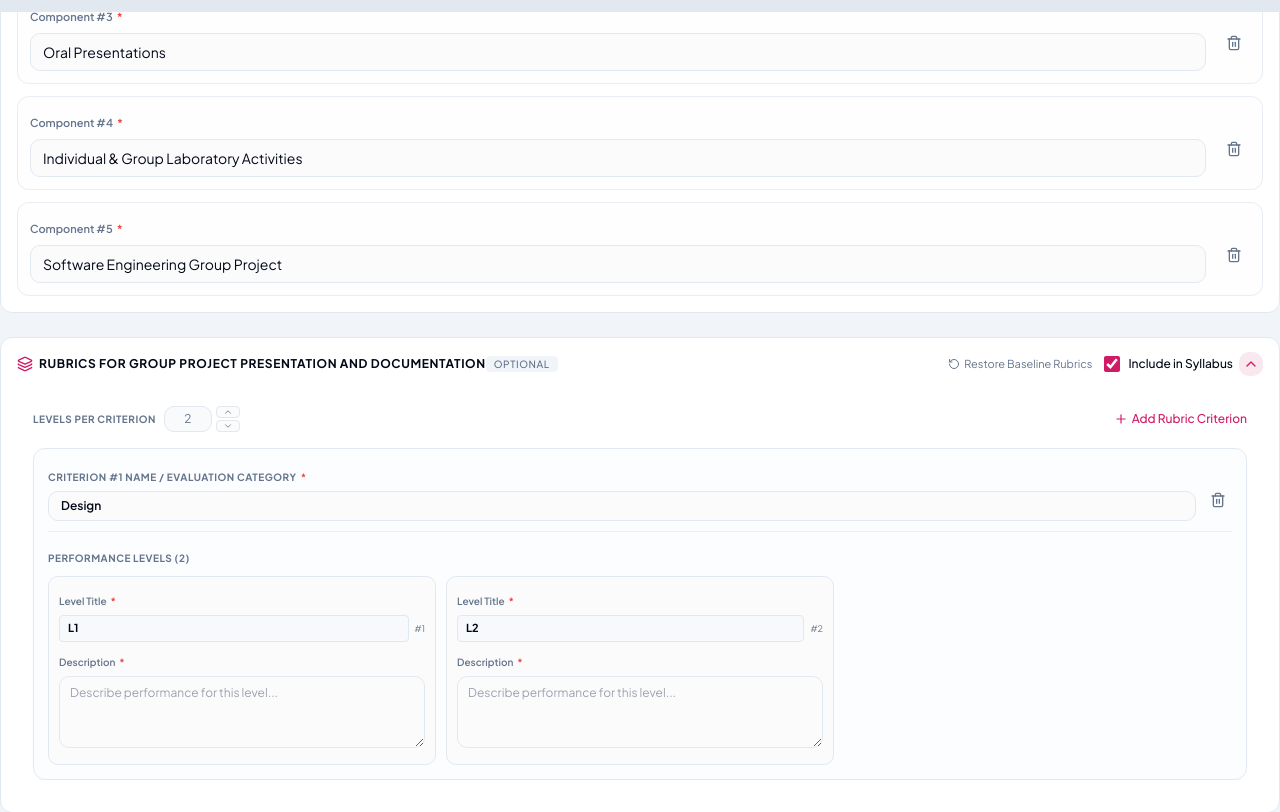
it: Wizard Steps Early › Step 2 steps the level count with the up/down buttons and arrow keys
The image size is (1280, 812).
(page scrolled)
Check: the number field named "Performance levels per criterion" holds "2", box left=164, top=406, right=212, bottom=432
Step 1. Click the button named "Increase performance levels" → (228, 412), box left=216, top=406, right=240, bottom=418
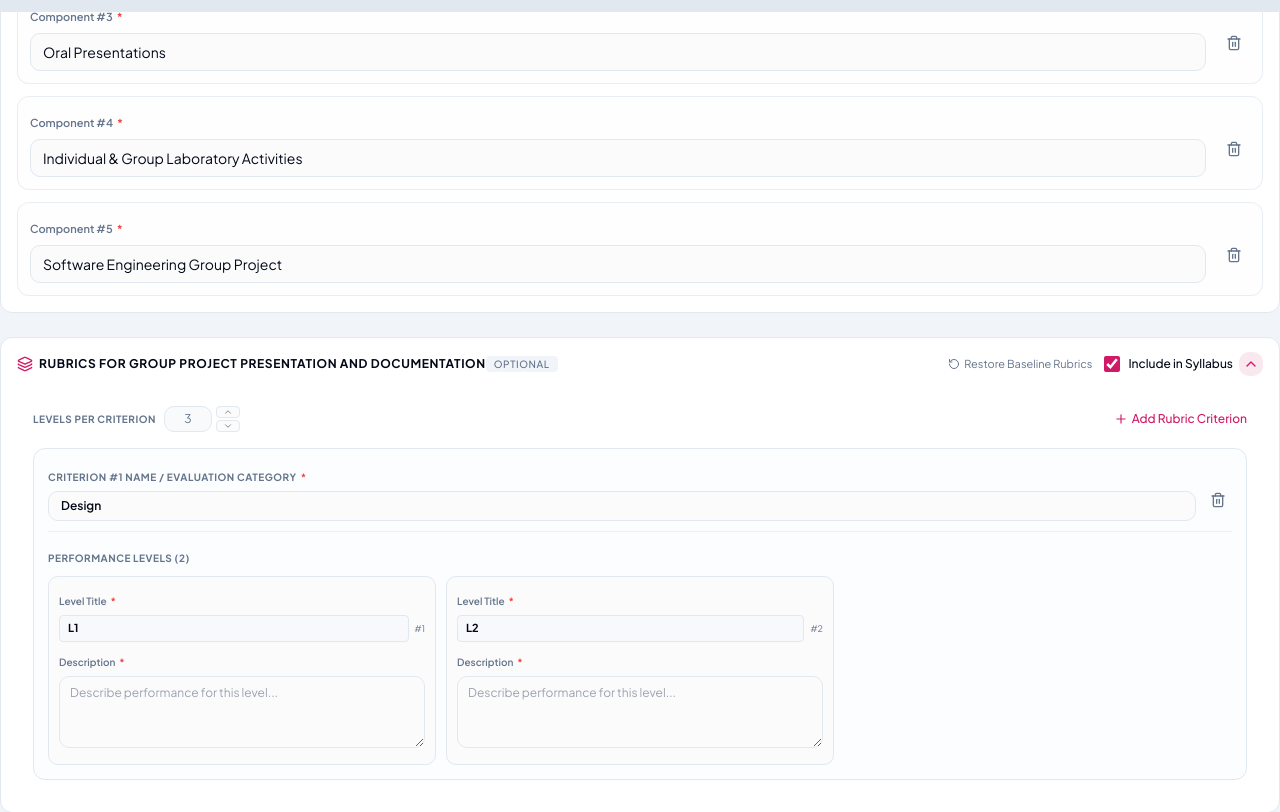
Check: the number field named "Performance levels per criterion" holds "3"
Step 2. Press ArrowUp in the number field named "Performance levels per criterion", box left=164, top=406, right=212, bottom=432
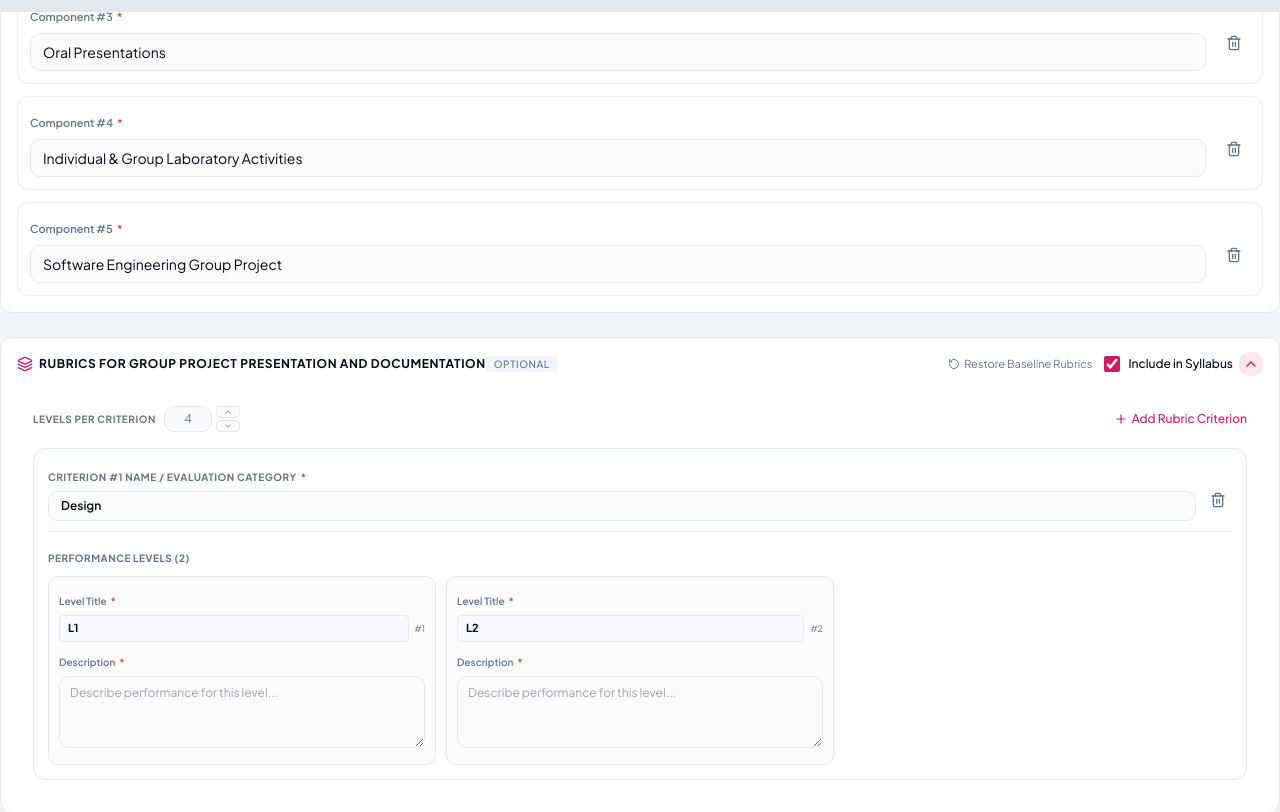
Check: the number field named "Performance levels per criterion" holds "4"
Step 3. Press ArrowDown in the number field named "Performance levels per criterion", box left=164, top=406, right=212, bottom=432
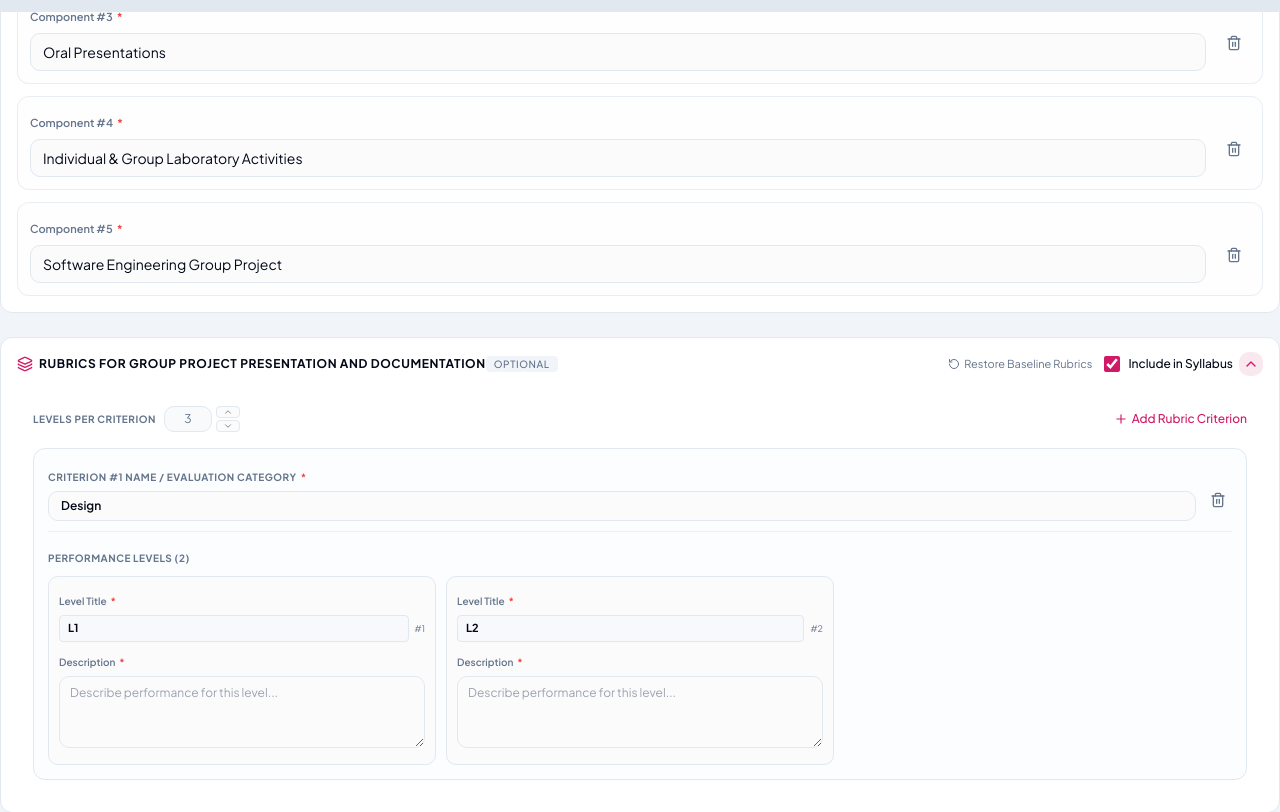
Check: the number field named "Performance levels per criterion" holds "3", box left=164, top=406, right=212, bottom=432
Step 4. Click the button named "Decrease performance levels" → (228, 426), box left=216, top=420, right=240, bottom=432
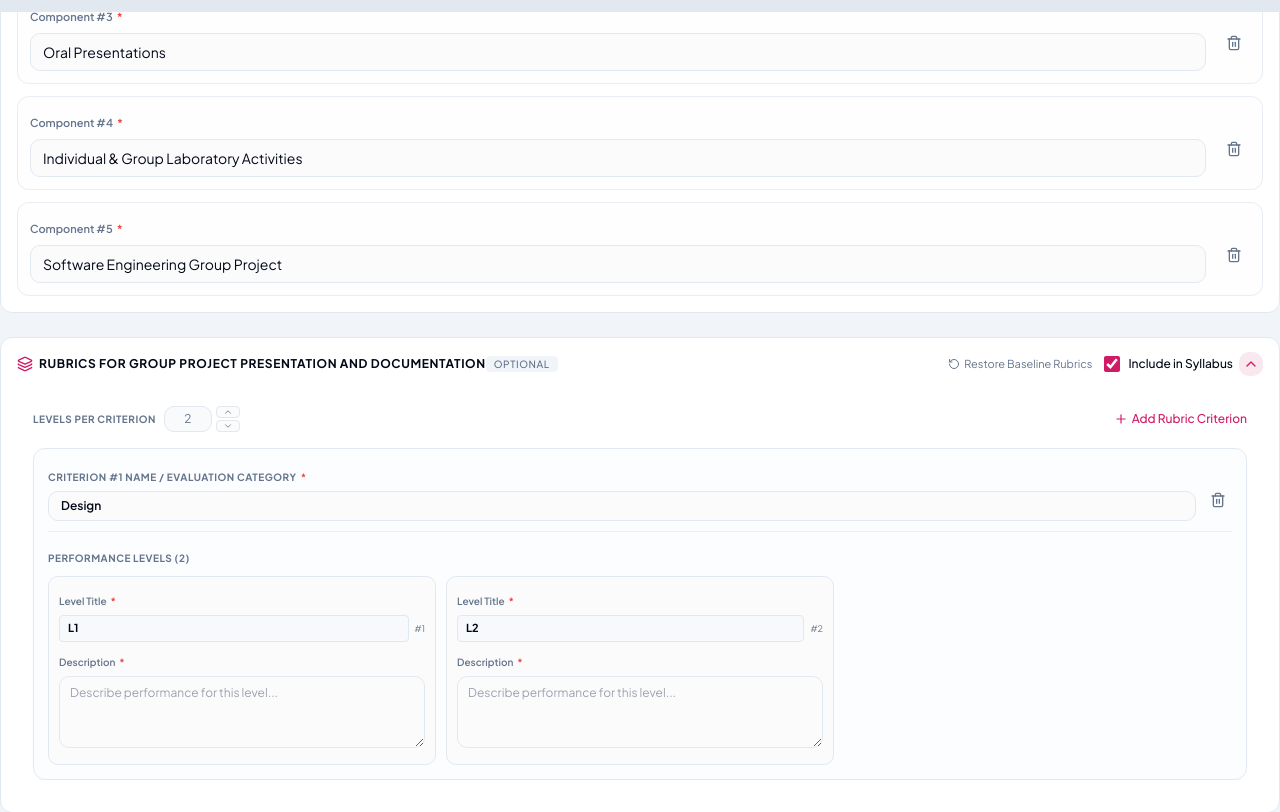
Check: the number field named "Performance levels per criterion" holds "2", box left=164, top=406, right=212, bottom=432
